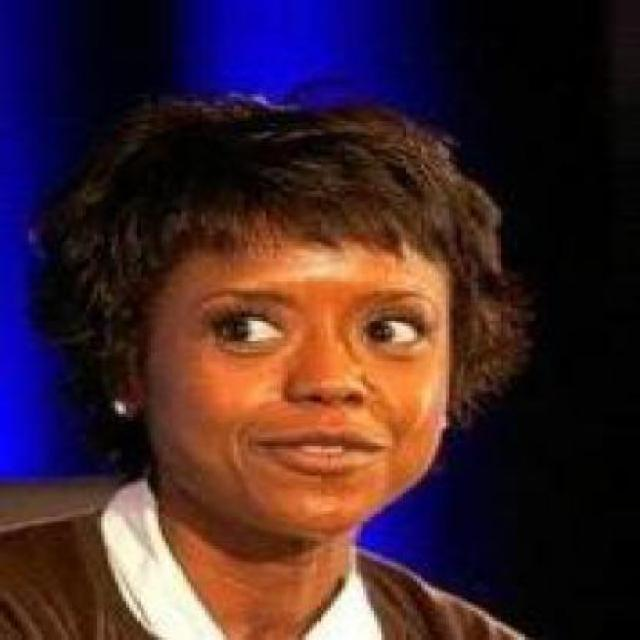closed-mouth: (244, 428, 384, 470)
